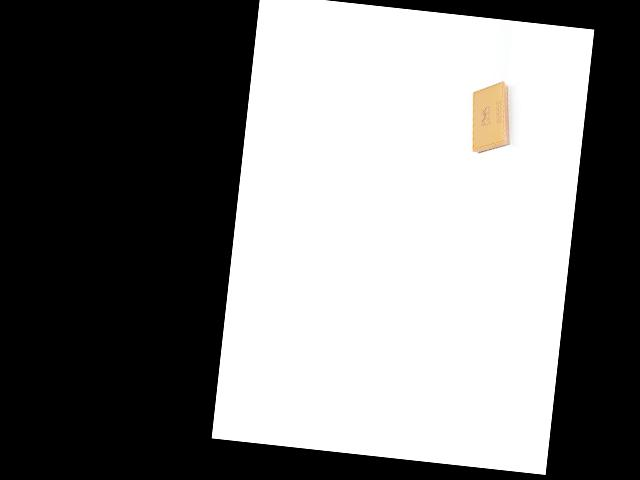chocolate: (464, 78, 522, 158)
